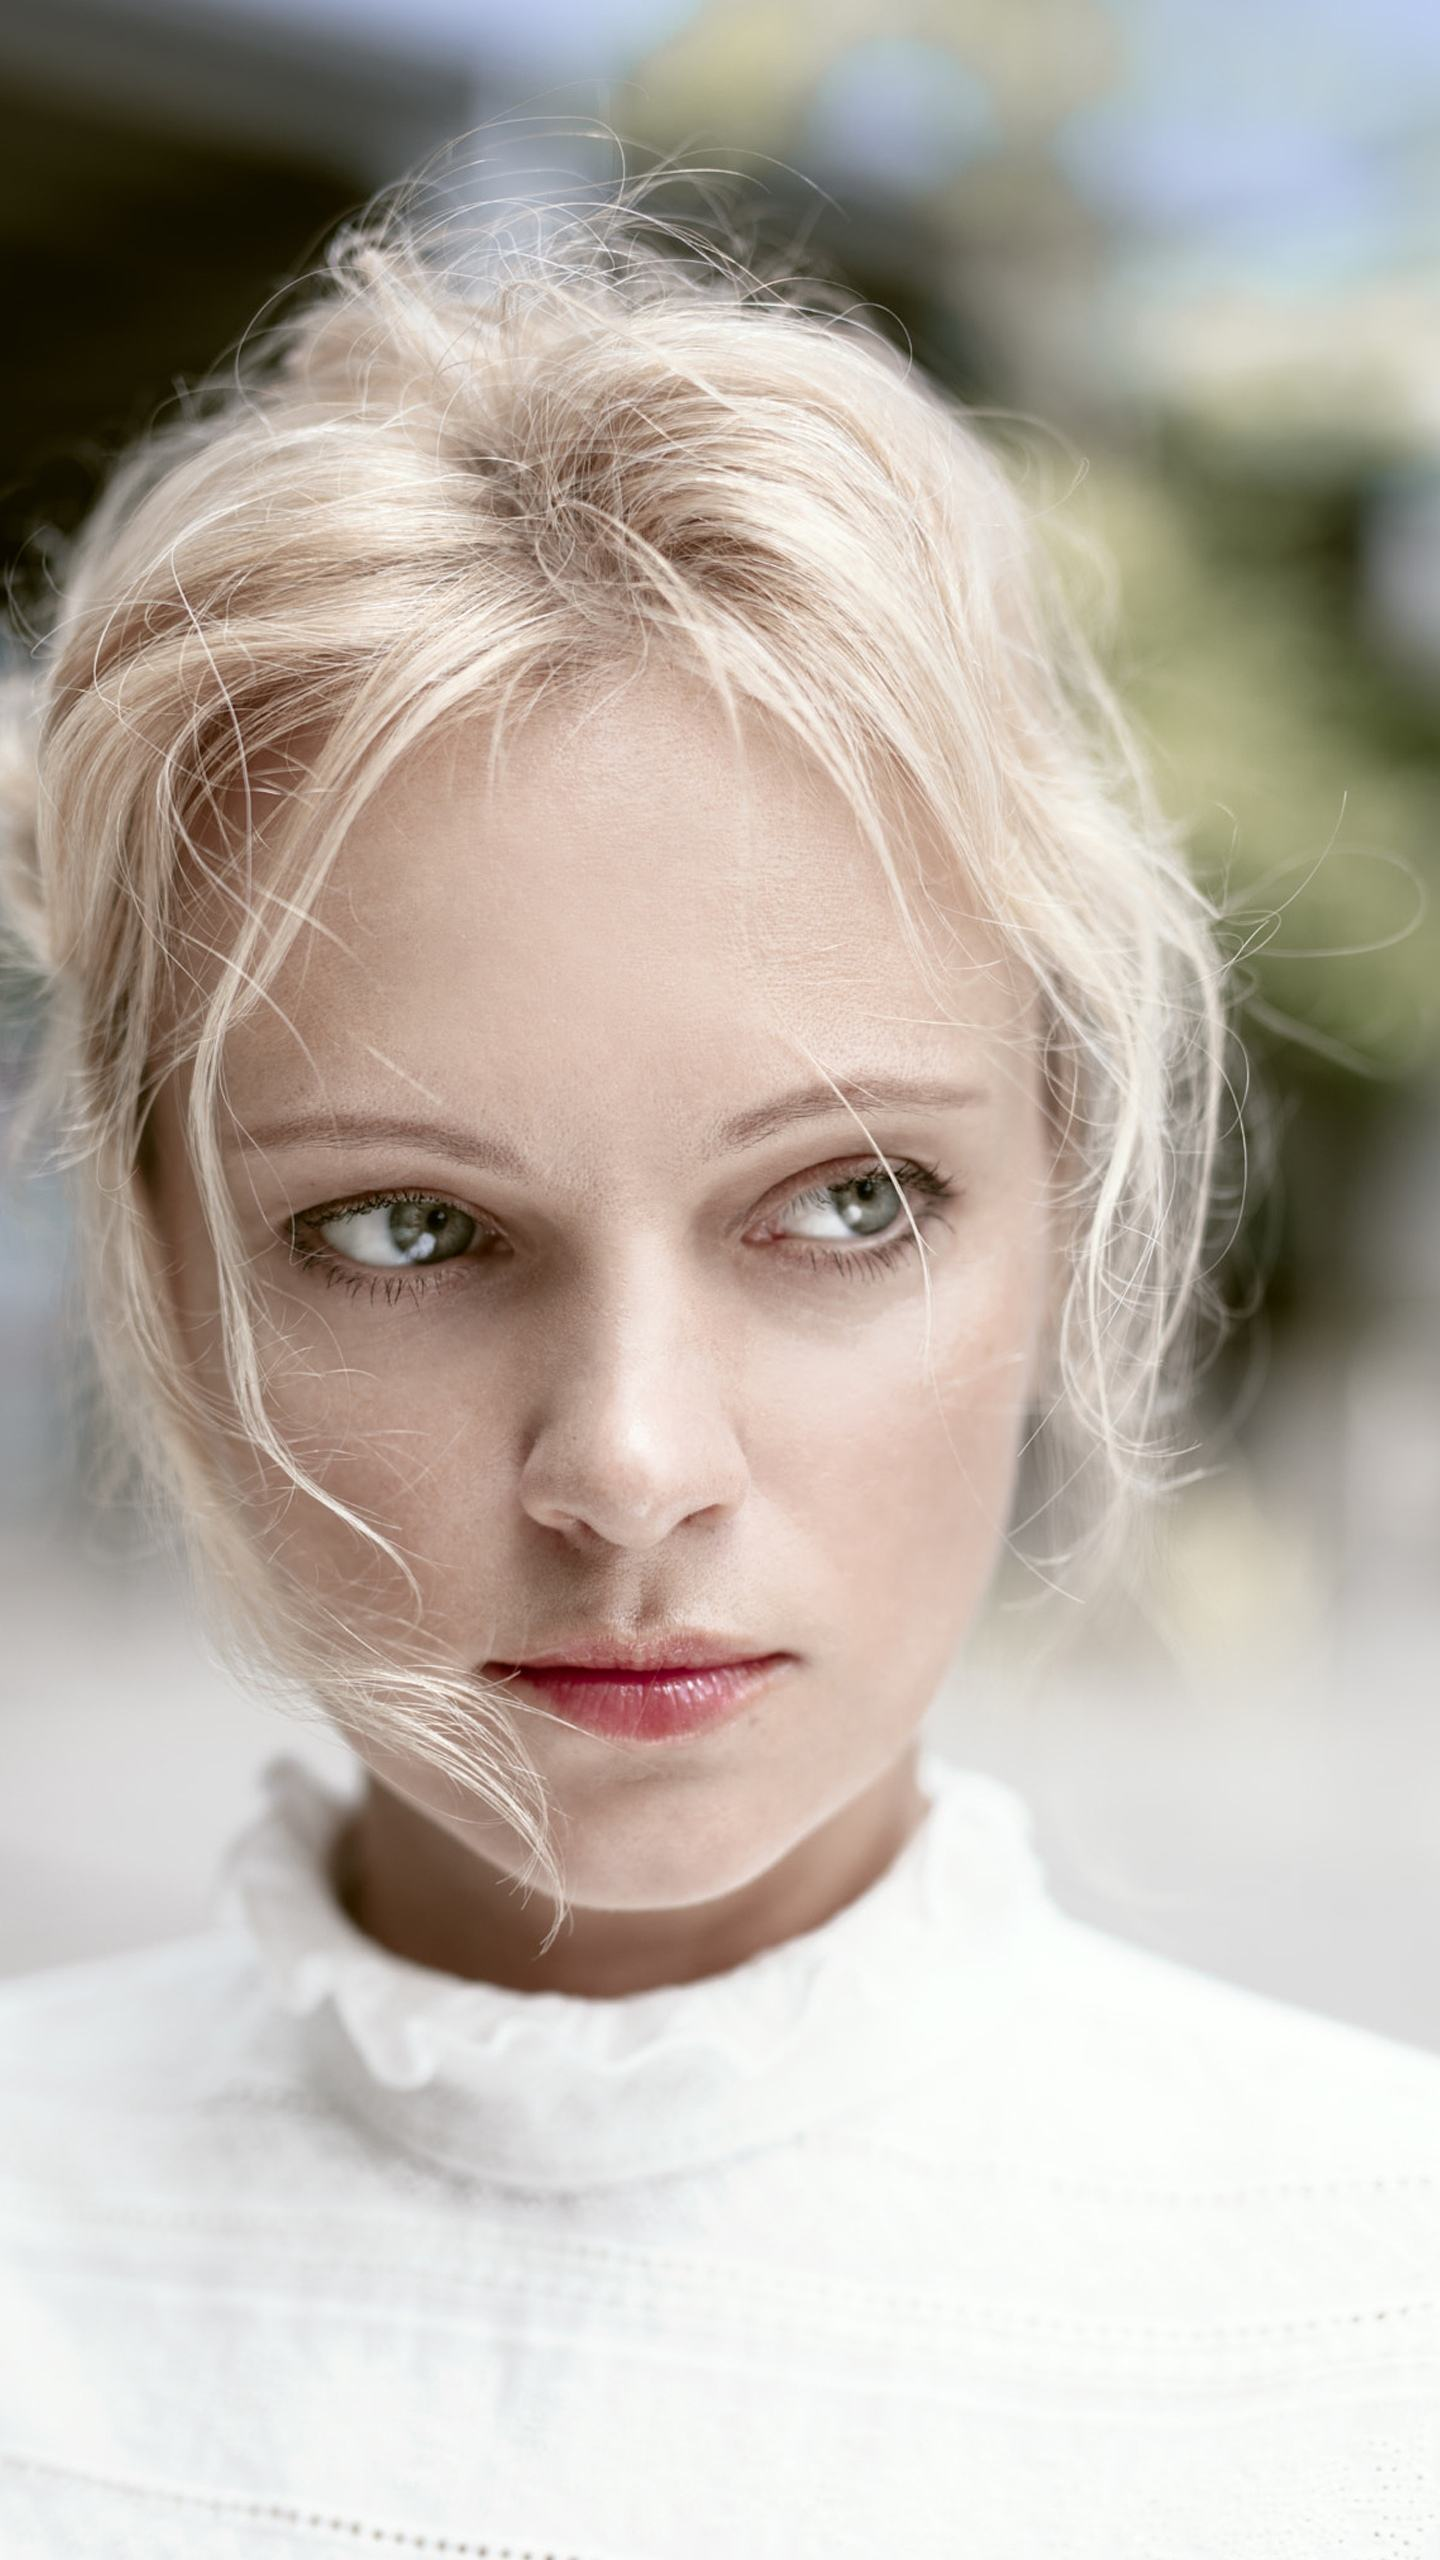person: (75, 230, 1262, 2203)
